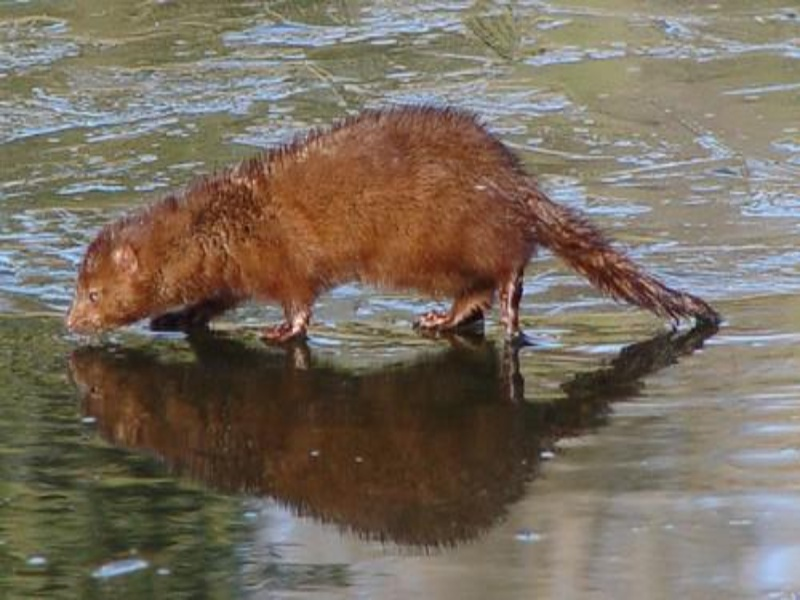minkish: (62, 105, 723, 345)
